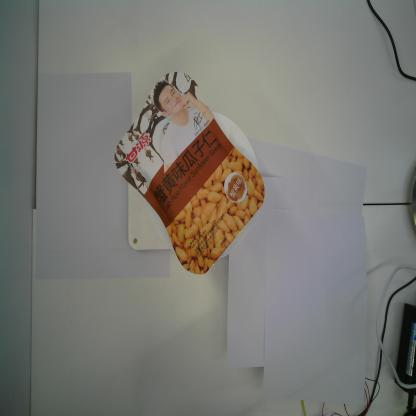Dried Fruit: (114, 71, 265, 275)
